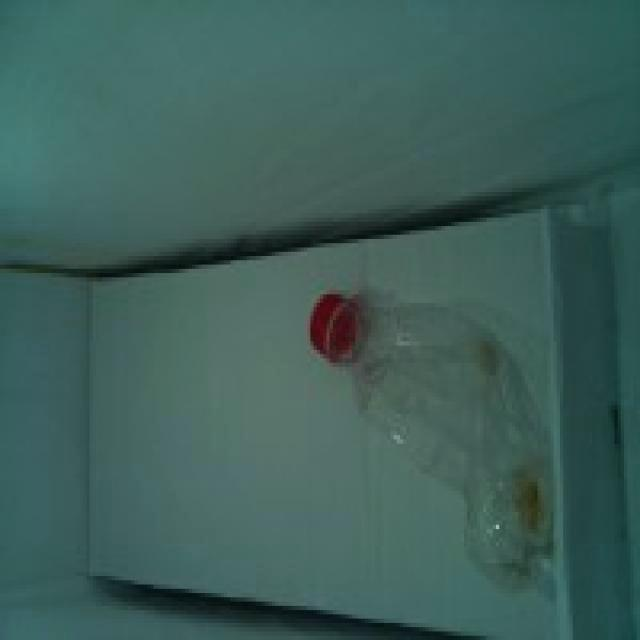bottle: (309, 292, 555, 596)
